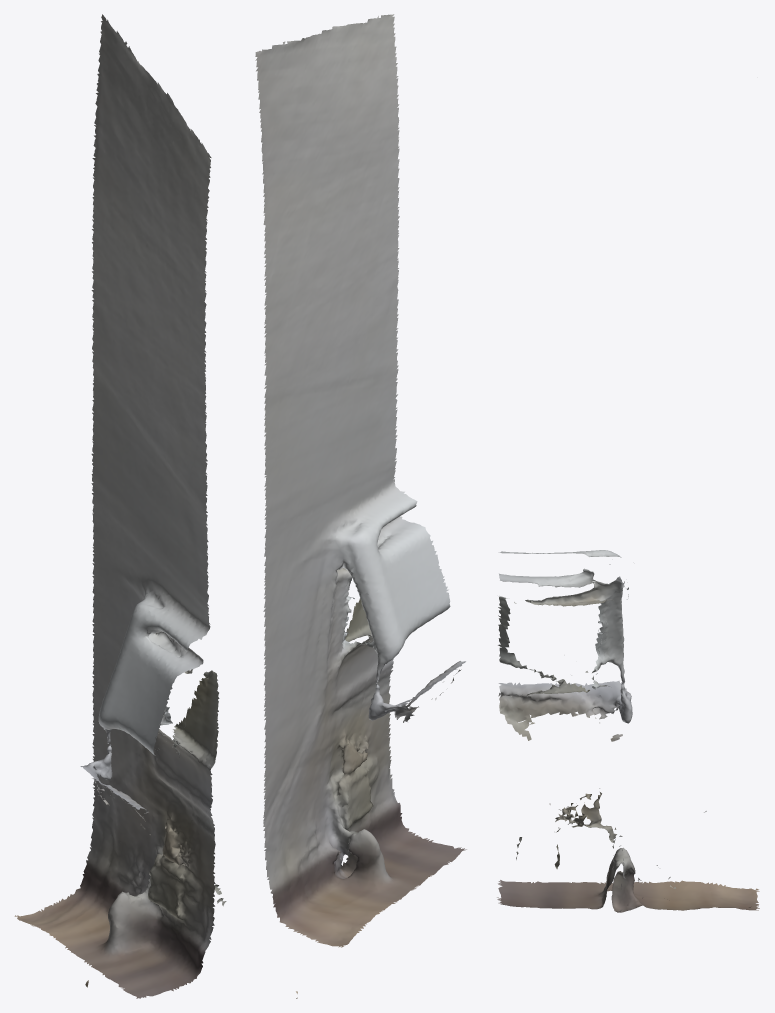
File: apartment-full-120-a7304034469b.glb
The picture shows the model from 3 angles, left to right: view 1: azimuth 30°, elevation 25°; view 2: azimuth 150°, elevation 25°; view 3: azimuth 270°, elevation 25°; orthographic projection. The views are drawn at different scales.
Size of the model in its own units: 0.286 by 2.5 by 0.601.
